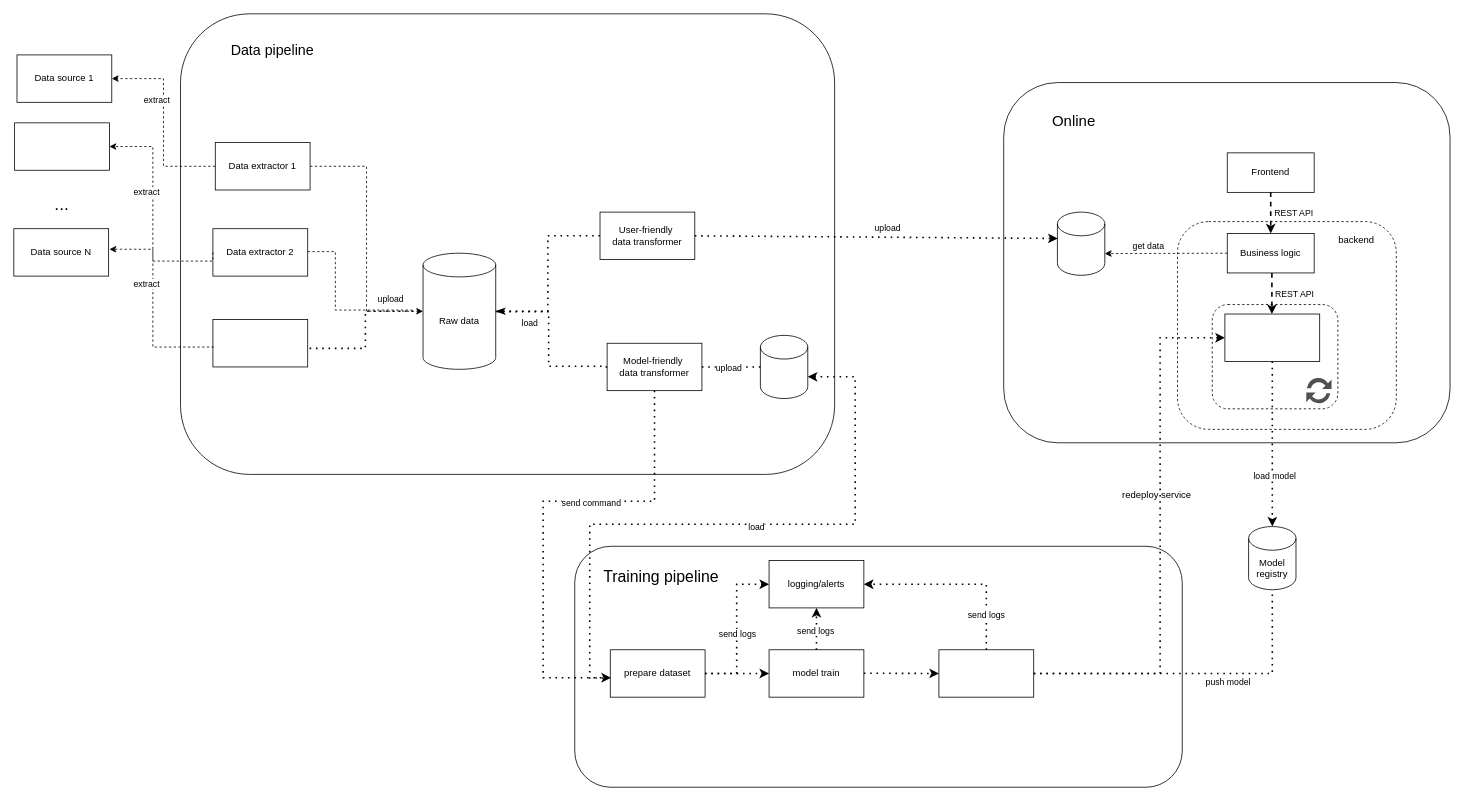
Image size: 1464x801. Some labels were removed from this diagram. The centre of each missing label's shape, as x and y in pixels:
Data extractor N: the point at 260,343
Data source 2: the point at 61,146
Database: the point at 1081,243
Feature Store: the point at 784,367
ML-service: the point at 1272,337
model evaluate: the point at 986,673
